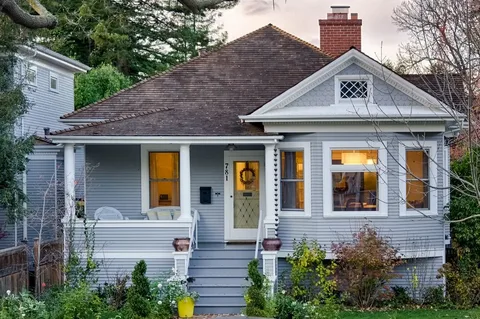private_hause: (78, 22, 447, 266)
